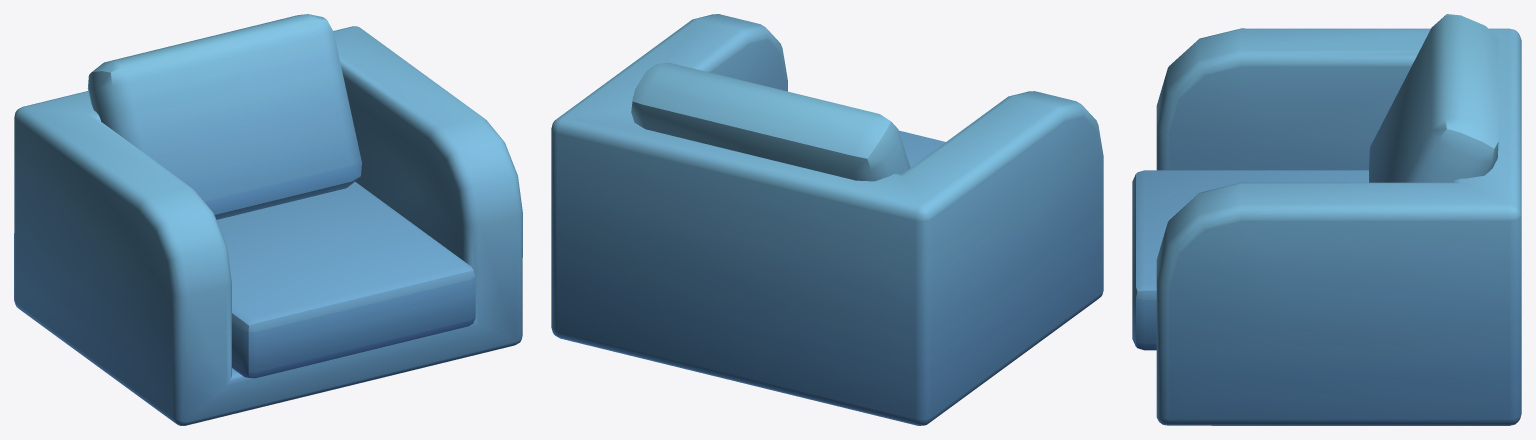
The model's file is kay-poltrona.gltf.
3 renders of one model, left to right at view 1: azimuth 30°, elevation 25°; view 2: azimuth 150°, elevation 25°; view 3: azimuth 270°, elevation 25°, orthographic. The views are drawn at different scales.
Parts seen in each view (by area): view 1: armchair; view 2: armchair; view 3: armchair.
Boxes of the visible parts, x1,y1,x2,y2 form: armchair: [14, 14, 522, 425]; armchair: [551, 14, 1103, 425]; armchair: [1132, 14, 1521, 425].
Size of the model in its own units: 1.17 by 0.7956 by 1.04.
Materials: 1 (1 with a texture image).
